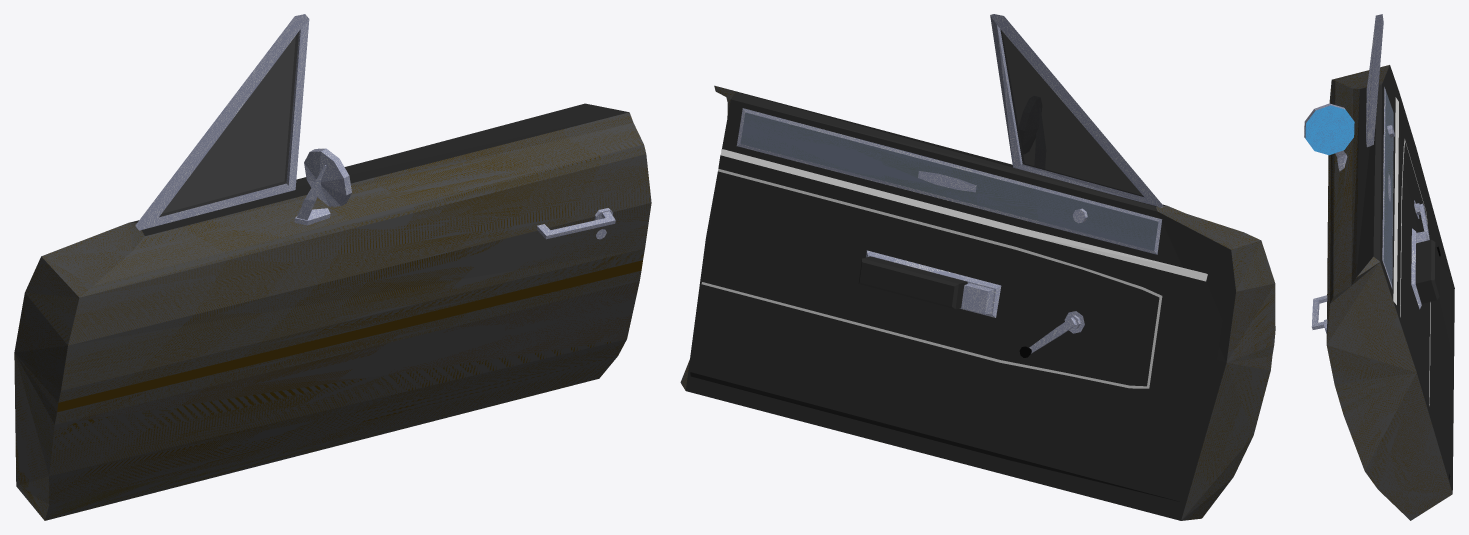
File: cardoor_obj.obj
3 views of the same model, side by side, from view 1: azimuth 30°, elevation 25°; view 2: azimuth 150°, elevation 25°; view 3: azimuth 270°, elevation 25° (orthographic). The views are drawn at different scales.
Size of the model in its own units: 3.99 by 3 by 1.07.
